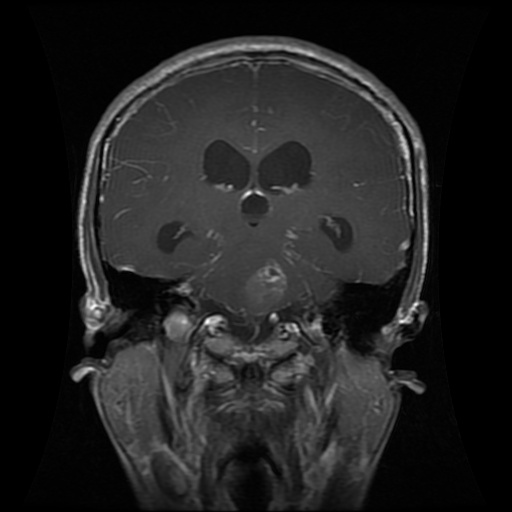glioma: (243, 257, 286, 314)
